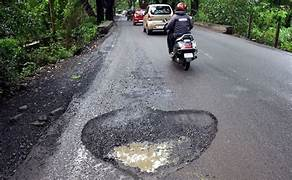Pothole: (75, 101, 220, 180)
